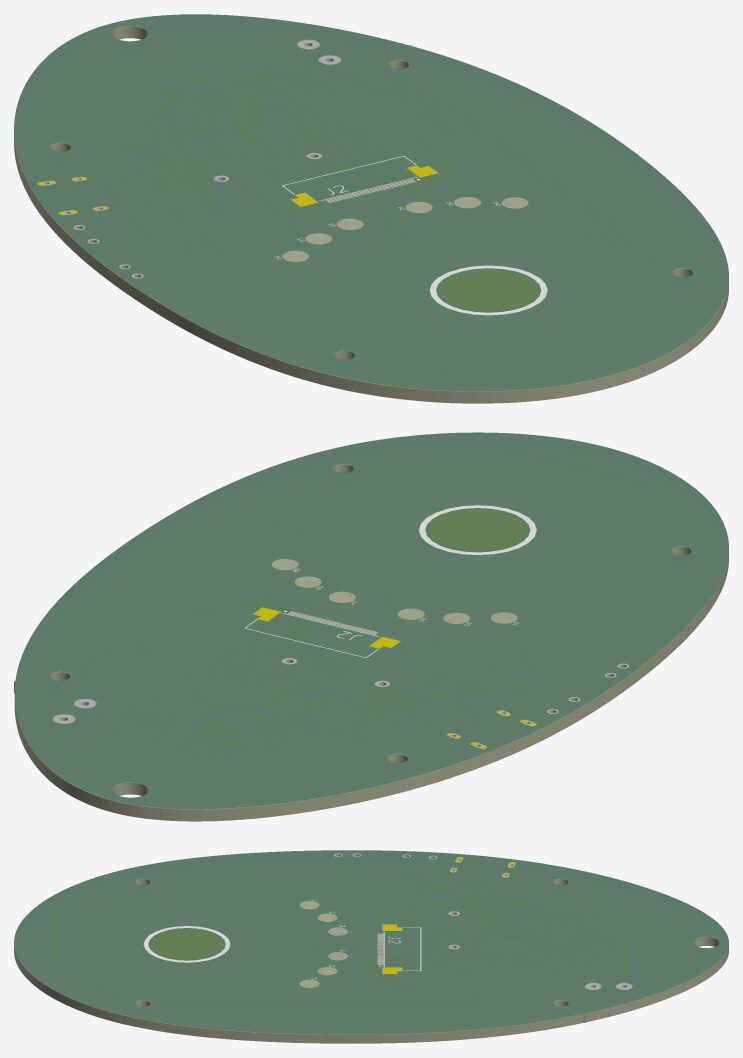
File: thotcon-0xd-badge.glb
The picture shows the model from 3 angles, top to bottom: view 1: azimuth 30°, elevation 25°; view 2: azimuth 150°, elevation 25°; view 3: azimuth 270°, elevation 25°; orthographic projection. The views are drawn at different scales.
Parts seen in each view (by area): view 1: =>[0:1:1:7], =>[0:1:1:9], =>[0:1:1:2], =>[0:1:1:5]; view 2: =>[0:1:1:7], =>[0:1:1:9], =>[0:1:1:2], =>[0:1:1:5]; view 3: =>[0:1:1:7], =>[0:1:1:9], =>[0:1:1:2], =>[0:1:1:5].
Boxes of the visible parts, x1,y1,x2,y2 form: =>[0:1:1:7]: (14,14,728,403); =>[0:1:1:9]: (14,15,728,403); =>[0:1:1:2]: (38,40,680,378); =>[0:1:1:5]: (35,156,547,315); =>[0:1:1:7]: (14,432,728,821); =>[0:1:1:9]: (14,433,728,820); =>[0:1:1:2]: (53,448,669,753); =>[0:1:1:5]: (244,505,581,759); =>[0:1:1:7]: (14,850,728,1043); =>[0:1:1:9]: (14,851,728,1043); =>[0:1:1:2]: (54,853,631,1003); =>[0:1:1:5]: (143,899,421,979).
Size of the model in its own units: 0.0702 by 0.00166 by 0.115.
4 materials, 4 textured.
